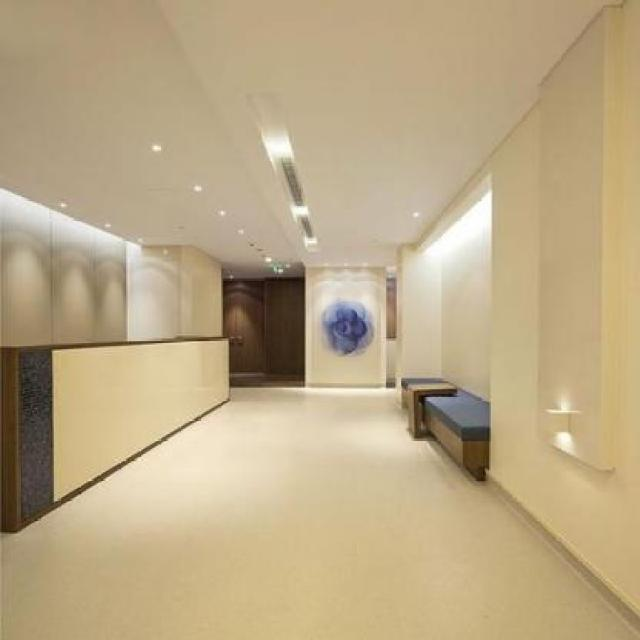frontdesk: (0, 329, 242, 533)
